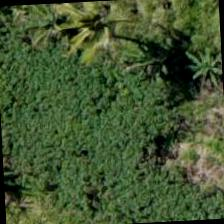Kelapa_Sawit: (55, 0, 150, 74)
